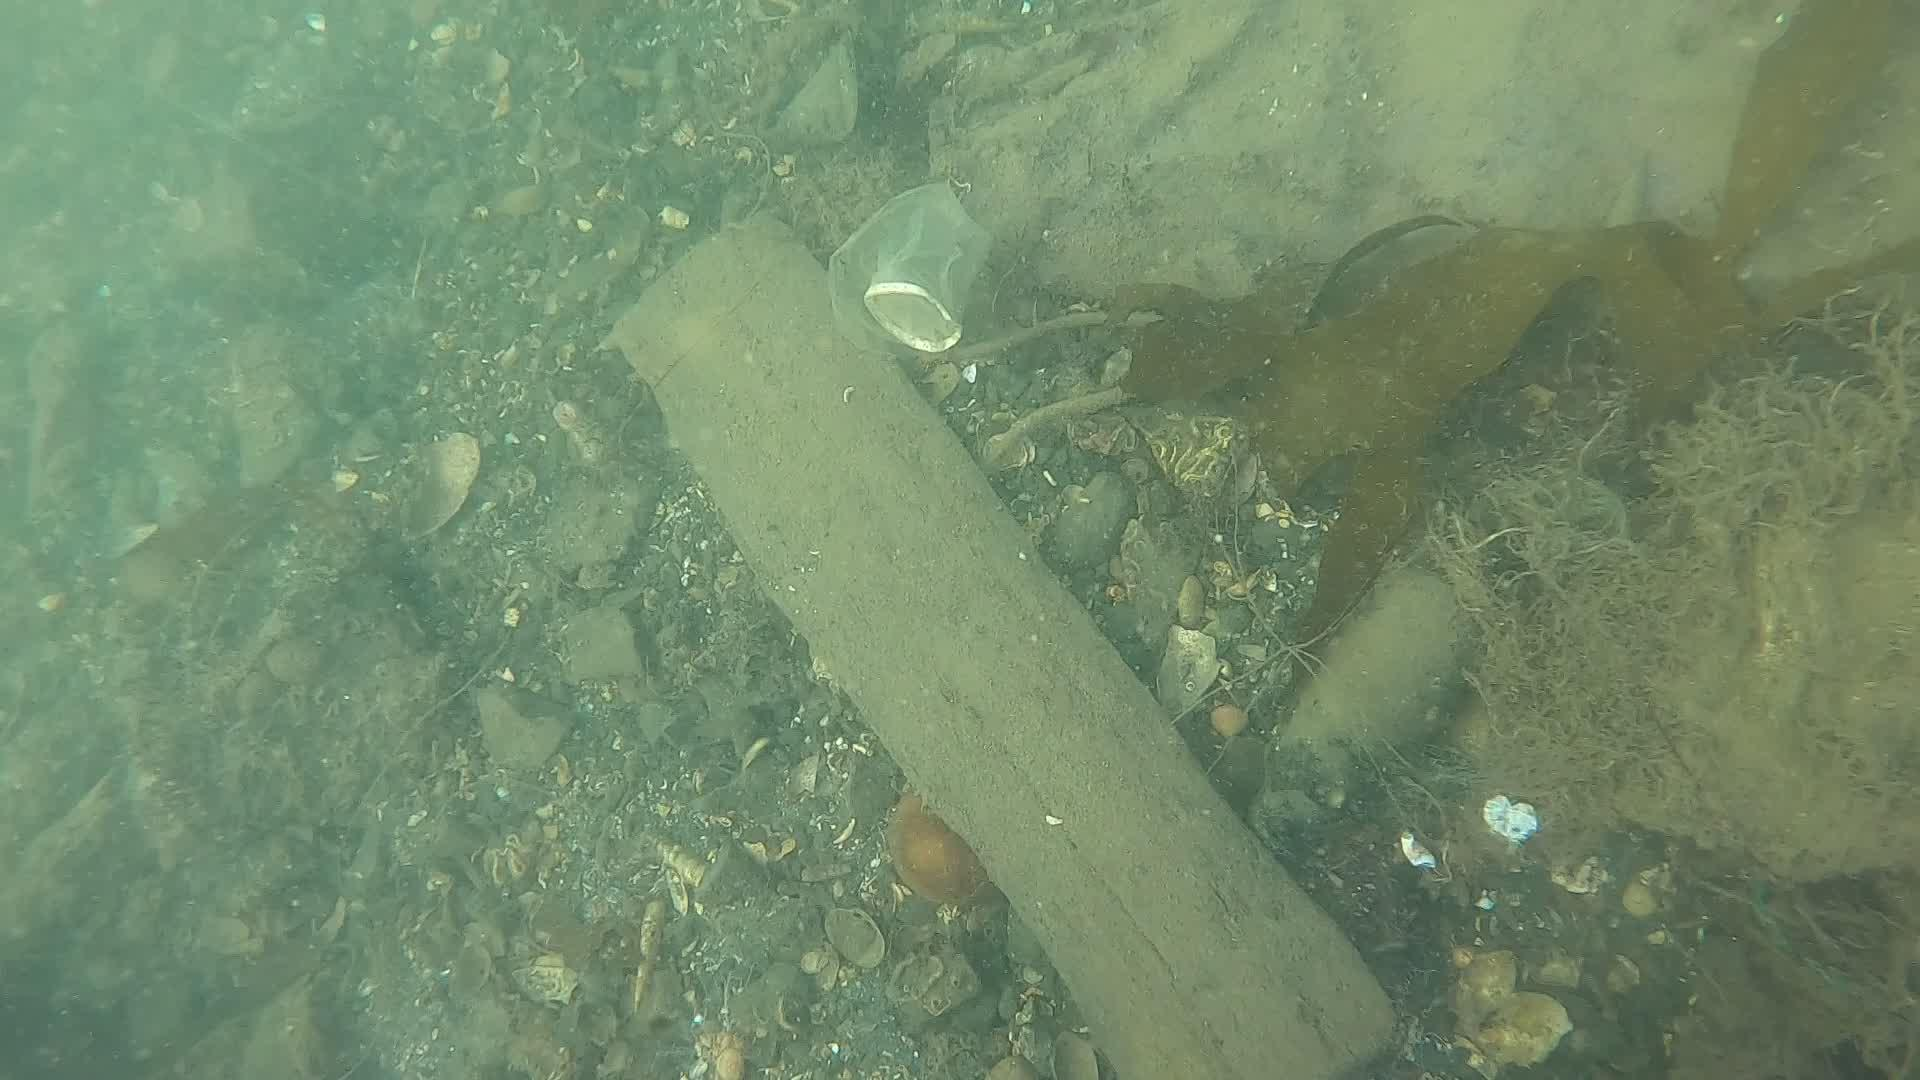wood: (607, 207, 1403, 1080)
